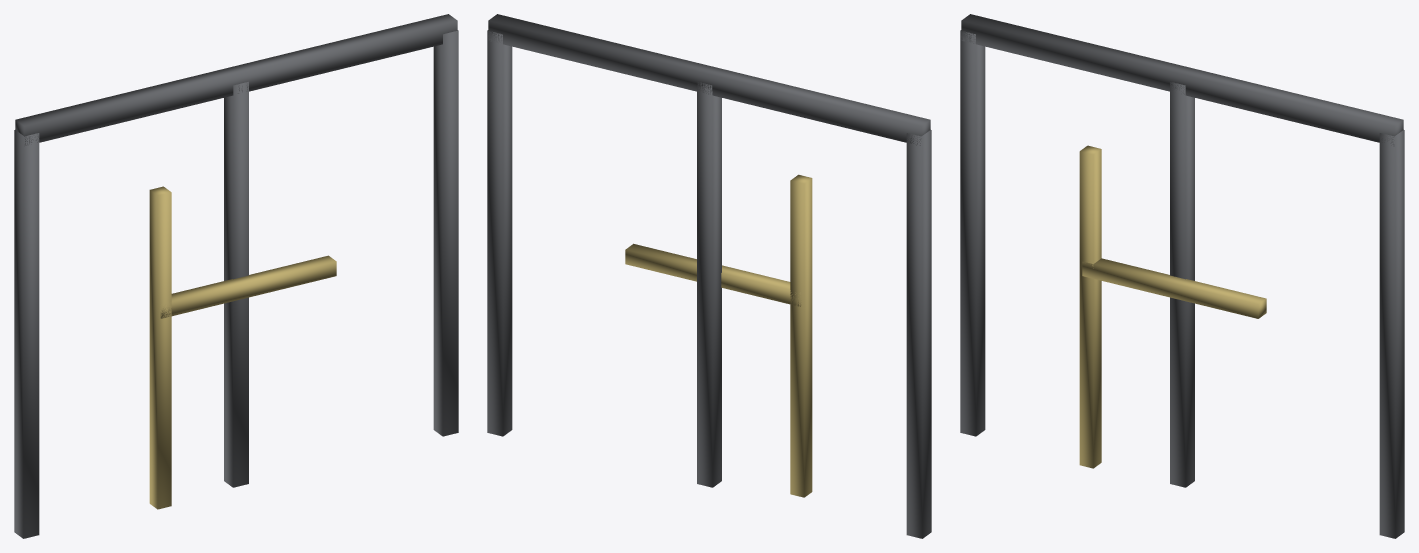
File: industrial_gate_l120_h110.glb
3 renders of one model, left to right at view 1: azimuth 30°, elevation 25°; view 2: azimuth 150°, elevation 25°; view 3: azimuth 330°, elevation 25°, orthographic.
Parts seen in each view (by area): view 1: world; view 2: world; view 3: world.
Boxes of the visible parts, x1,y1,x2,y2 form: world: [14, 14, 458, 538]; world: [487, 14, 931, 538]; world: [960, 14, 1404, 538].
Size of the model in its own units: 1.25 by 1.13 by 0.0825.
